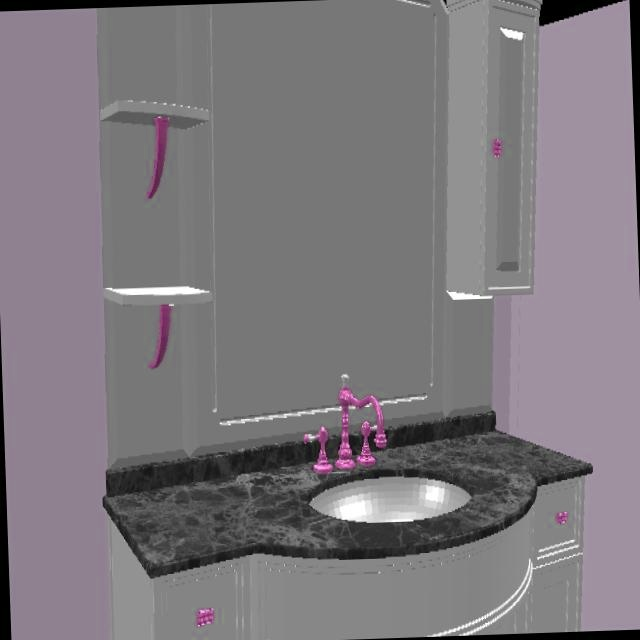cabinet: (152, 476, 585, 640)
washbasin: (309, 477, 471, 526)
